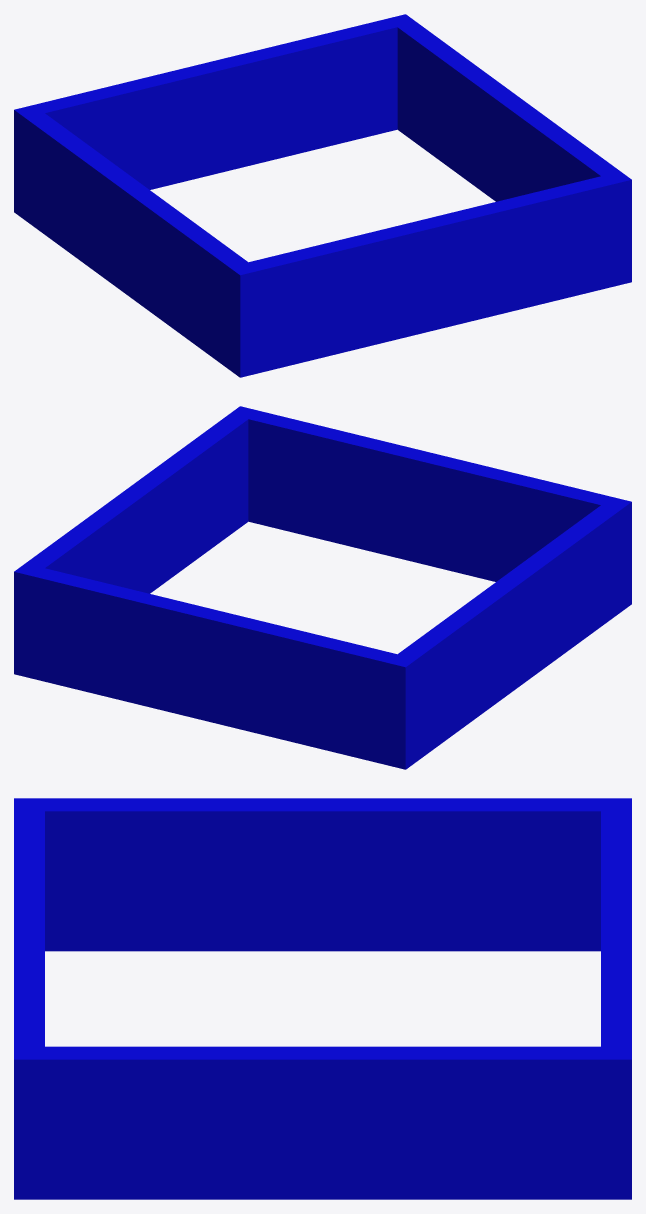
The model's file is BlueFrame.fbx.
The picture shows the model from 3 angles, top to bottom: view 1: azimuth 30°, elevation 25°; view 2: azimuth 150°, elevation 25°; view 3: azimuth 270°, elevation 25°; orthographic projection. The views are drawn at different scales.
Visible parts, largest first — view 1: polySurface1; view 2: polySurface1; view 3: polySurface1.
Part boxes in pixels (x1,y1,x2,y2): polySurface1: (14,14,631,377); polySurface1: (14,406,631,769); polySurface1: (14,798,631,1199).
Bounding box in the file's own units: 1 × 0.25 × 1.
